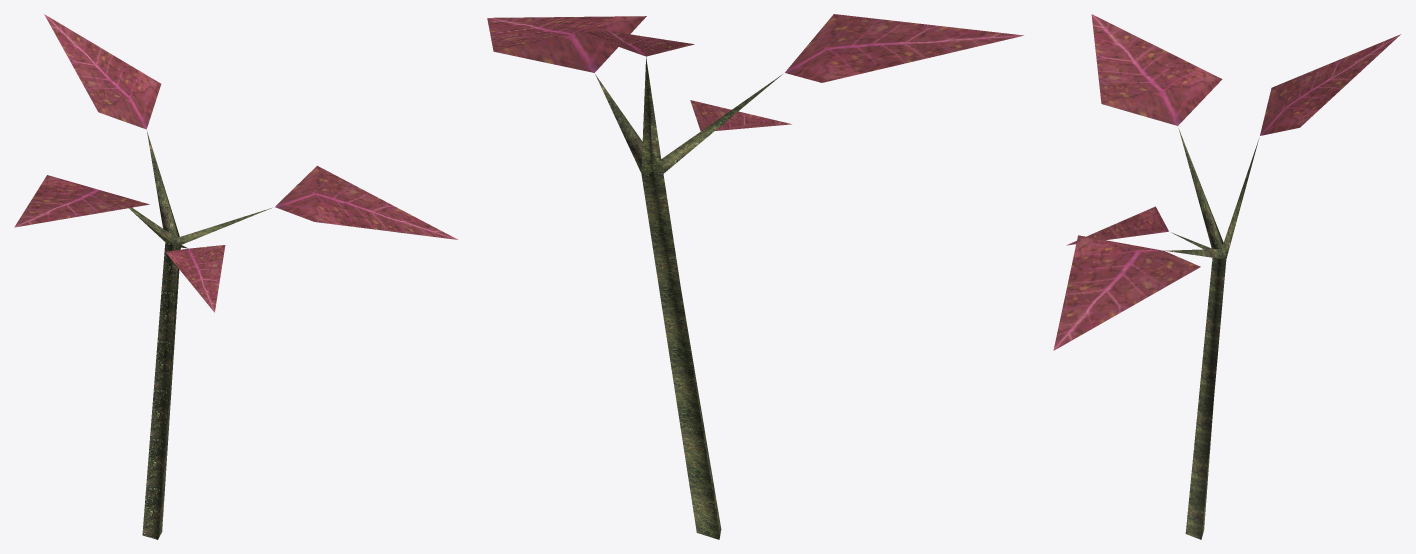
File: leaf_smallflora_a2_l2.fbx
3 views of the same model, side by side, from view 1: azimuth 30°, elevation 25°; view 2: azimuth 150°, elevation 25°; view 3: azimuth 270°, elevation 25° (orthographic). The views are drawn at different scales.
Parts seen in each view (by area): view 1: mesh_node; view 2: mesh_node; view 3: mesh_node.
Part boxes in pixels (x1,y1,x2,y2): mesh_node: (14,14,457,539); mesh_node: (487,14,1023,539); mesh_node: (1053,14,1400,539).
Bounding box in the file's own units: 1.18 × 1.2 × 0.769.
Materials: 2 (2 with a texture image).
